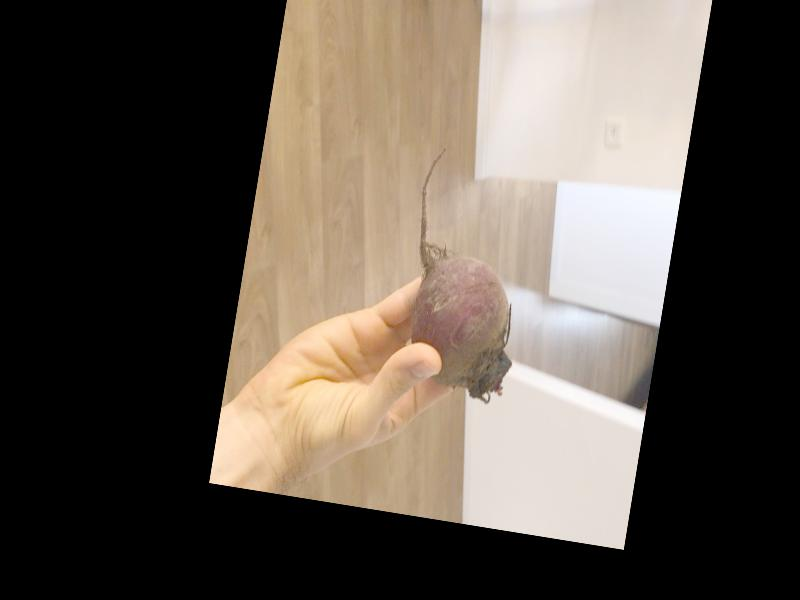Beet: (392, 144, 542, 403)
